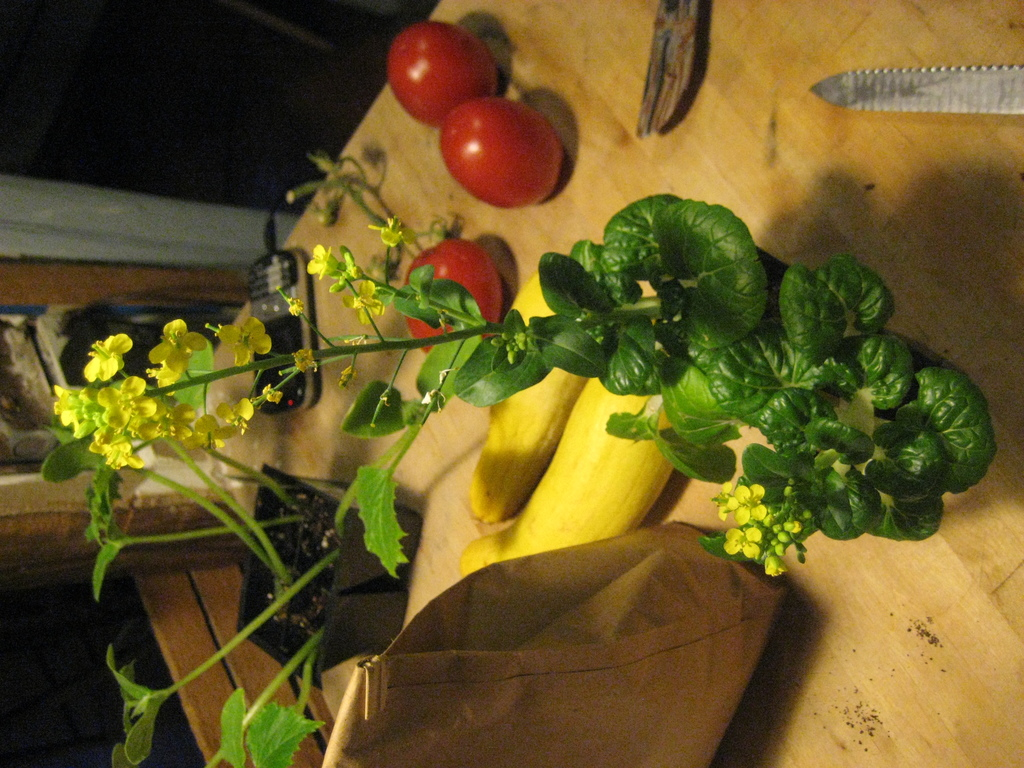Tomato: (442, 92, 563, 211), (401, 238, 503, 359), (376, 17, 485, 121)
